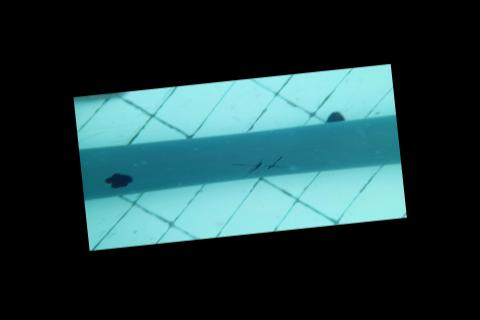kebocoran: (102, 170, 133, 191)
keretakan: (231, 155, 286, 178)
